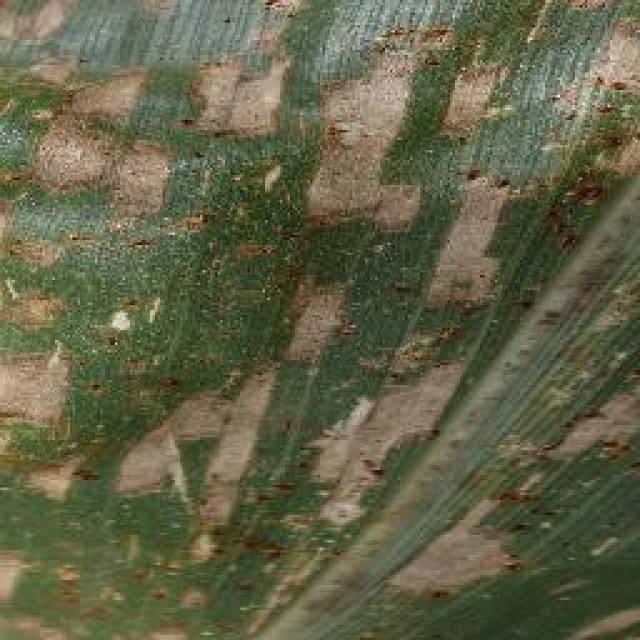Corn___Cercospora_leaf_spot Gray_leaf_spot: (4, 7, 637, 640)
